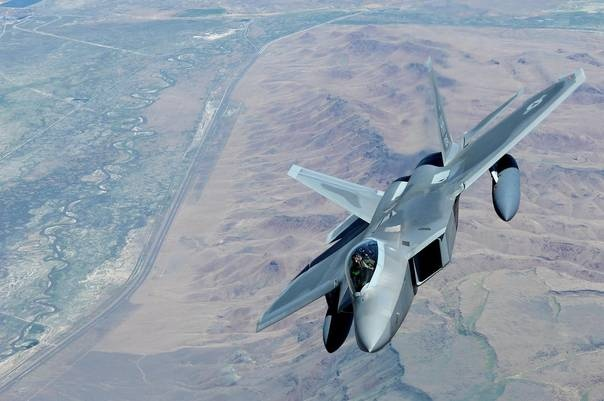airplane: (245, 64, 578, 356)
